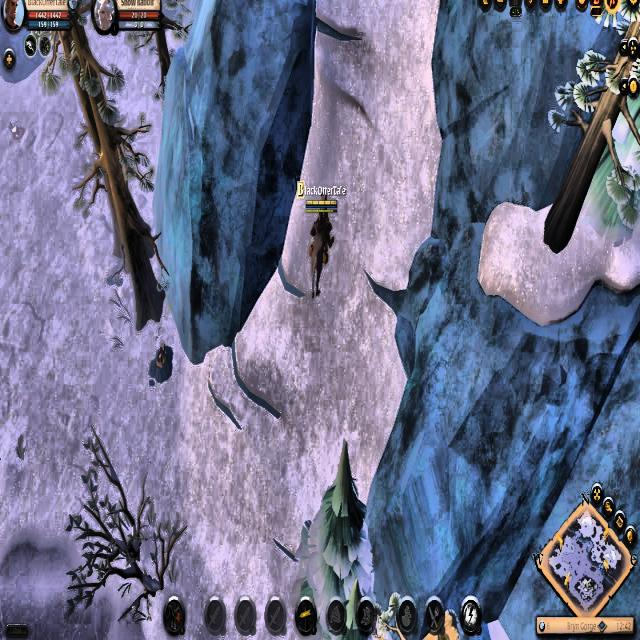copperore: (144, 336, 174, 392)
